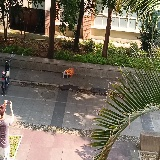fire: (65, 68, 74, 77)
